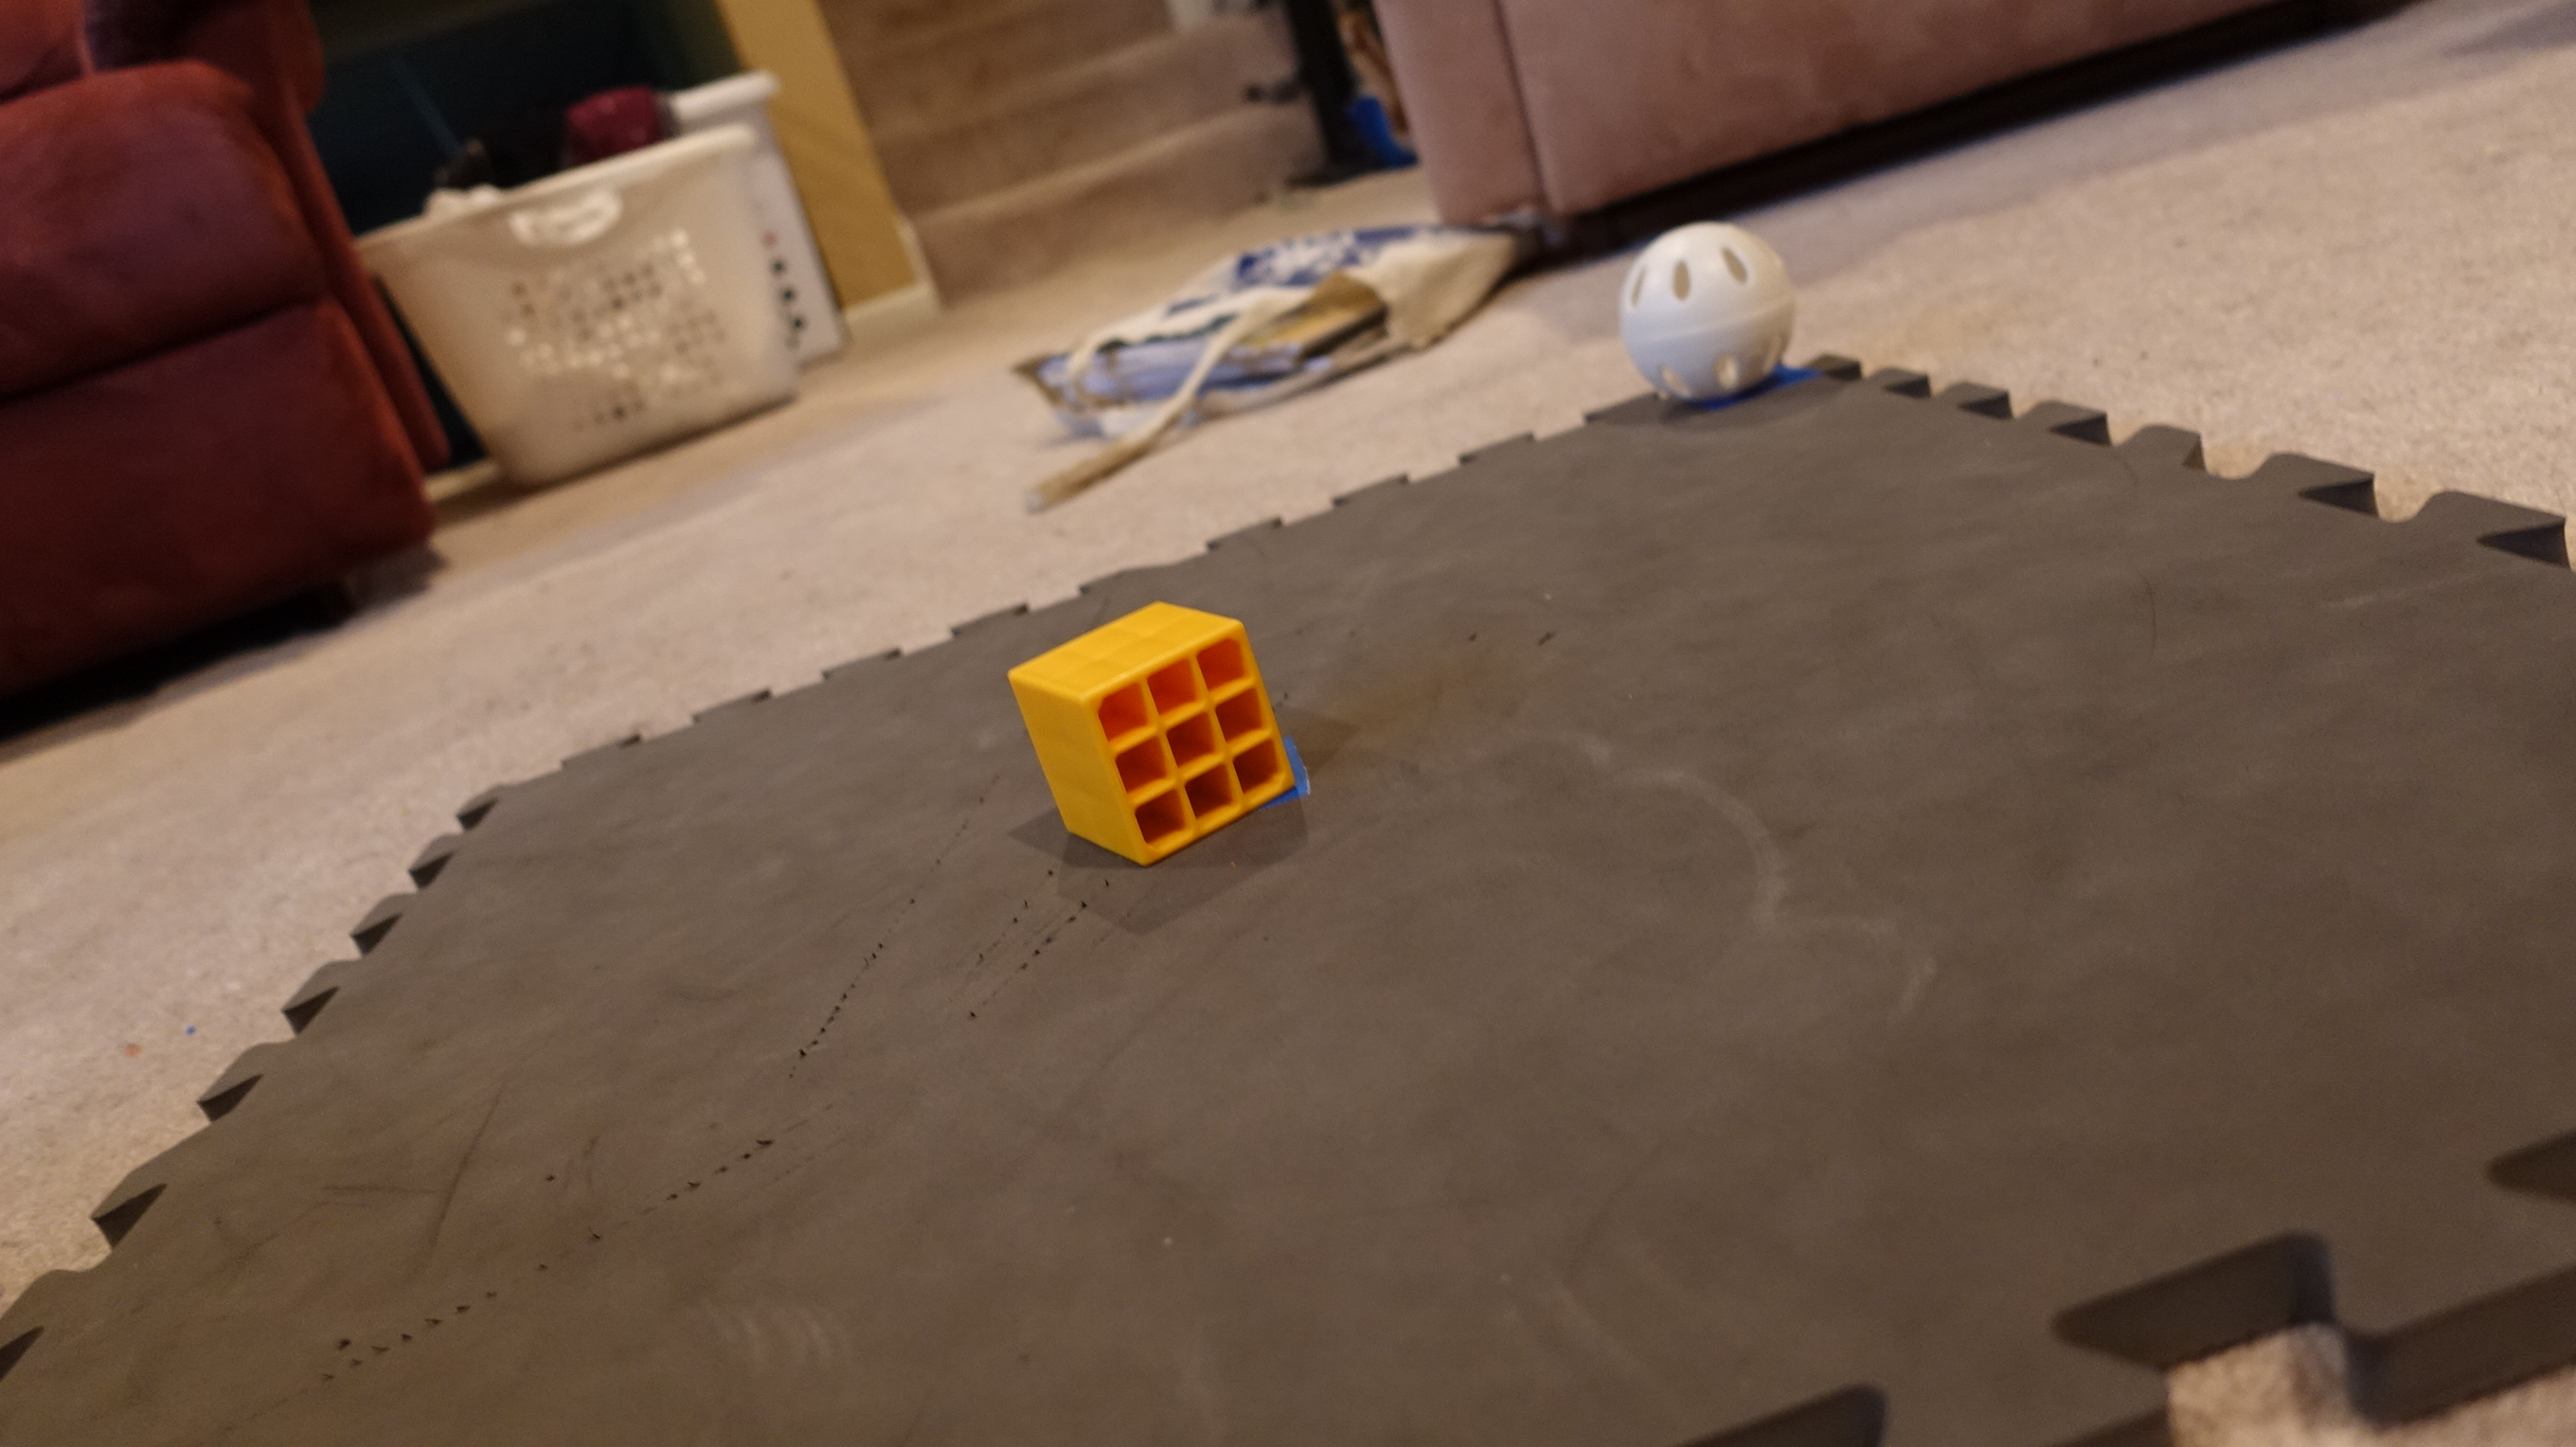gold: (1001, 591, 1304, 869)
silver: (1614, 219, 1803, 409)
